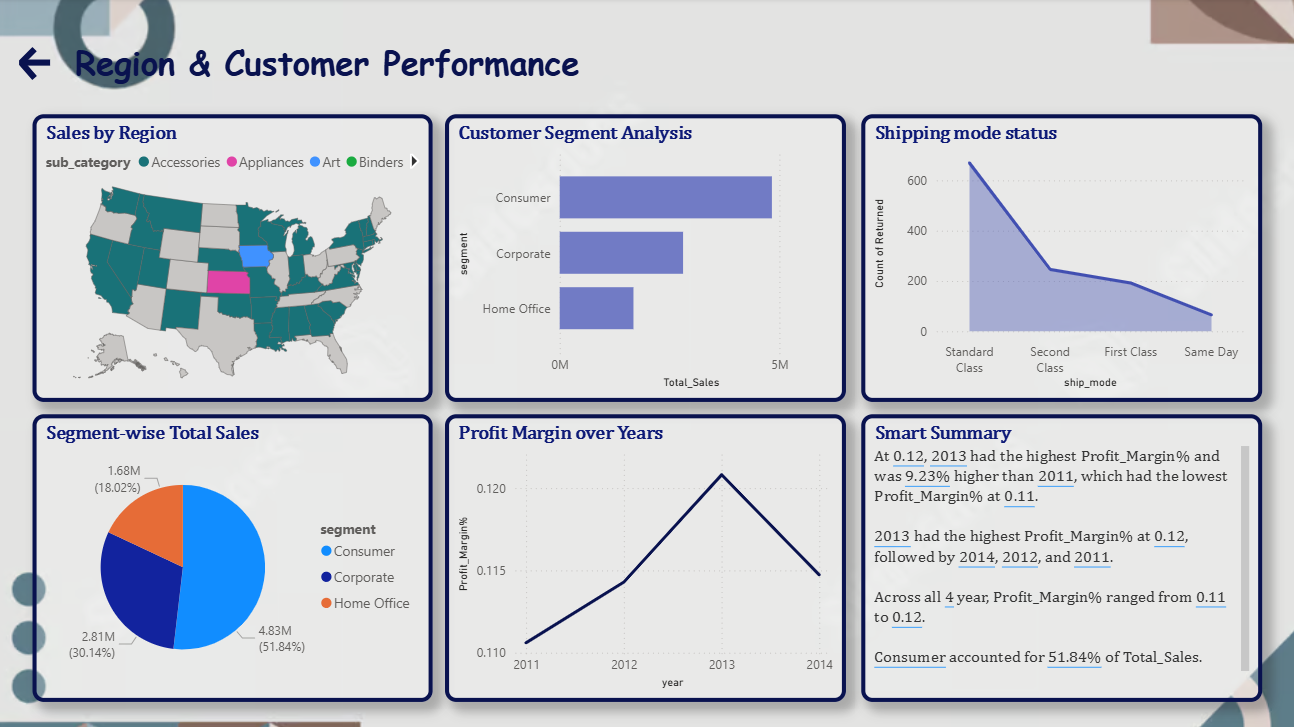

This screenshot's page, from the dashboard's own definition file:
{"tool":"powerbi","page":{"name":"Region & Customer Performance","canvas":[1280,720],"ordinal":2},"visuals":[{"type":"textbox","box":[73.6,35.6,1181.6,58.9],"z":0},{"type":"actionButton","box":[19.6,44.2,54,40.5],"z":1000},{"type":"shapeMap","title":"Sales by Region","fields":{"Value":["Orders.Total_Profit"],"Series":["Orders.sub_category"],"Category":["Orders.state"]},"box":[36.8,114.1,392.6,282.2],"z":2000},{"type":"pieChart","title":"Segment-wise Total Sales","fields":{"Y":["Orders.Total_Sales"],"Category":["Orders.segment"]},"box":[36.8,408.6,392.6,282.2],"z":3000},{"type":"areaChart","title":"Shipping mode status","fields":{"Category":["Orders.ship_mode"],"Y":["CountNonNull(Returns.Returned)"]},"box":[850,114.1,393.6,282.1],"z":4000},{"type":"clusteredBarChart","title":"Customer Segment Analysis","fields":{"Y":["Orders.Total_Sales"],"Category":["Orders.segment"]},"box":[442.3,114.1,393.6,282.1],"z":5000},{"type":"lineChart","title":"Profit Margin over Years","fields":{"Category":["Orders.year"],"Y":["Orders.Profit_Margin%"]},"box":[442.3,409,393.6,282.1],"z":6000},{"type":"textbox","title":"Smart Summary","box":[850,409,393.6,282.1],"z":7000}]}

Visuals, with their boxes in screenshot pixels (x1, y1, x2, y2), scaled from the page's 1280x720 canvas onto the 1294x727 screenshot:
textbox: 74,36,1269,95
actionButton: 20,45,74,86
"Sales by Region" shapeMap: 37,115,434,400
"Segment-wise Total Sales" pieChart: 37,413,434,698
"Shipping mode status" areaChart: 859,115,1257,400
"Customer Segment Analysis" clusteredBarChart: 447,115,845,400
"Profit Margin over Years" lineChart: 447,413,845,698
"Smart Summary" textbox: 859,413,1257,698
